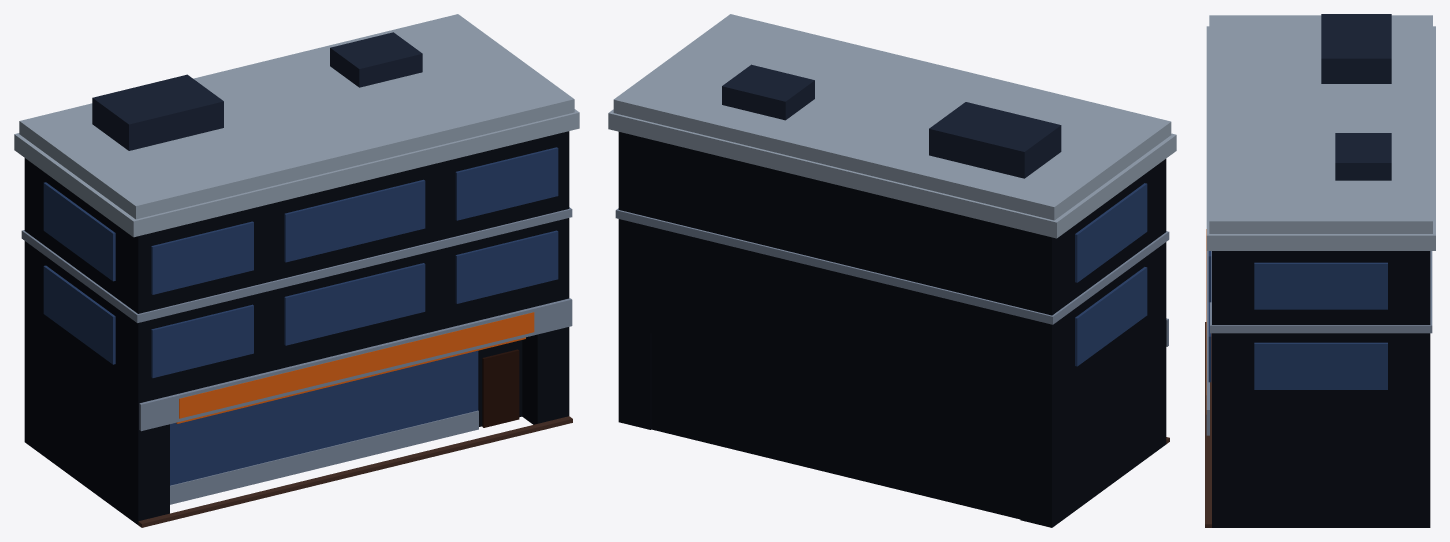
The model's file is retailpark3.obj.
The picture shows the model from 3 angles, left to right: view 1: azimuth 30°, elevation 25°; view 2: azimuth 150°, elevation 25°; view 3: azimuth 270°, elevation 25°; orthographic projection. The views are drawn at different scales.
Parts seen in each view (by area): view 1: cornice, upper-block, upper-windows, ground-piers, shopfronts, roof-plant, end-windows, store-sign, stallrisers, fascia-band, floor-band, pavement (+3 smaller); view 2: upper-block, cornice, ground-back, ground-piers, roof-plant, shopfront-heads, end-windows, floor-band; view 3: cornice, ground-piers, upper-block, end-windows, roof-plant, floor-band, pavement, fascia-band, upper-windows.
Part boxes in pixels (x1,y1,x2,y2): cornice: (14, 14, 579, 237); upper-block: (24, 131, 569, 402); upper-windows: (151, 147, 558, 377); ground-piers: (24, 297, 569, 524); shopfronts: (170, 350, 478, 485); roof-plant: (92, 32, 422, 150); end-windows: (43, 182, 115, 364); store-sign: (179, 312, 534, 418); stallrisers: (170, 410, 478, 504); fascia-band: (139, 298, 572, 431); floor-band: (21, 207, 572, 322); pavement: (138, 416, 572, 527); upper-block: (618, 132, 1166, 404); cornice: (608, 14, 1176, 238); ground-back: (651, 333, 1020, 519); ground-piers: (618, 299, 1166, 527); roof-plant: (722, 64, 1061, 178); shopfront-heads: (650, 307, 1020, 423); end-windows: (1075, 183, 1147, 366); floor-band: (615, 208, 1169, 324); cornice: (1206, 15, 1435, 250); ground-piers: (1212, 410, 1430, 527); upper-block: (1212, 251, 1430, 409); end-windows: (1254, 262, 1387, 389); roof-plant: (1321, 14, 1391, 180); floor-band: (1210, 251, 1432, 333); pavement: (1205, 322, 1211, 527); fascia-band: (1206, 251, 1209, 435); upper-windows: (1208, 251, 1211, 382).
Bounding box in the file's own units: 7.04 × 5.24 × 3.28.
